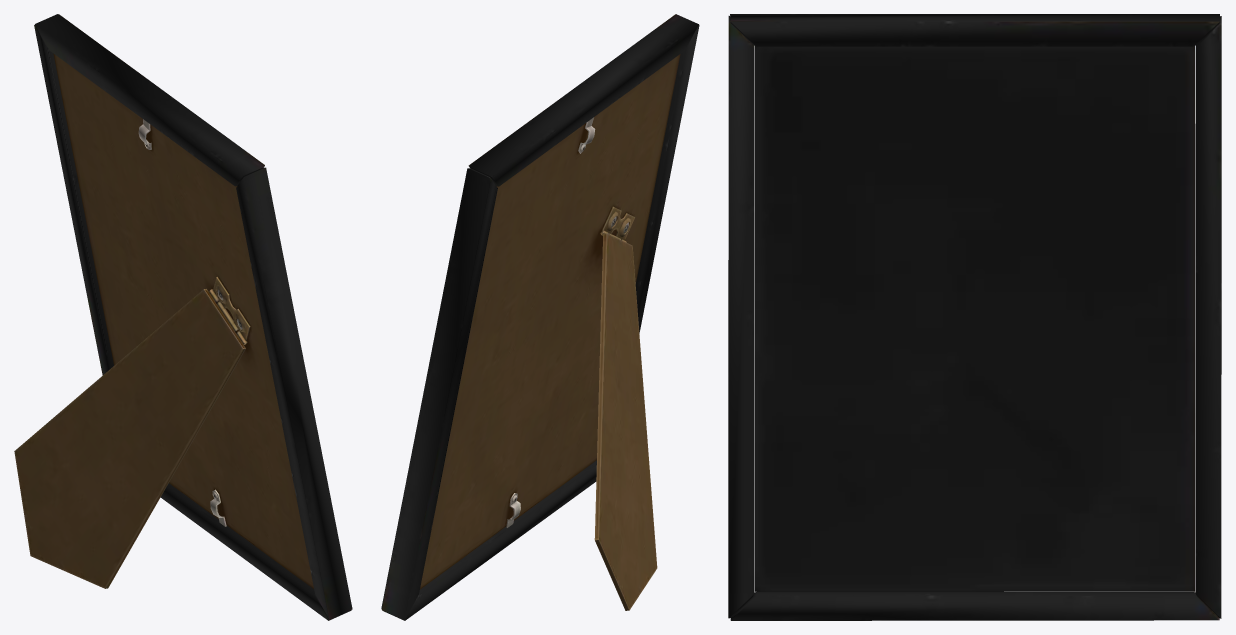
Rendered from standing_picture_frame_01.glb.
3 views of the same model, side by side, from view 1: azimuth 30°, elevation 25°; view 2: azimuth 150°, elevation 25°; view 3: azimuth 270°, elevation 25° (orthographic). The views are drawn at different scales.
Parts seen in each view (by area): view 1: standing_picture_frame_01; view 2: standing_picture_frame_01; view 3: standing_picture_frame_01.
Part boxes in pixels (x1,y1,x2,y2): standing_picture_frame_01: (14,14,352,620); standing_picture_frame_01: (381,14,699,620); standing_picture_frame_01: (728,14,1221,620).
Size of the model in its own units: 0.1003 by 0.2496 by 0.2004.
Materials: 3 (3 with a texture image).
